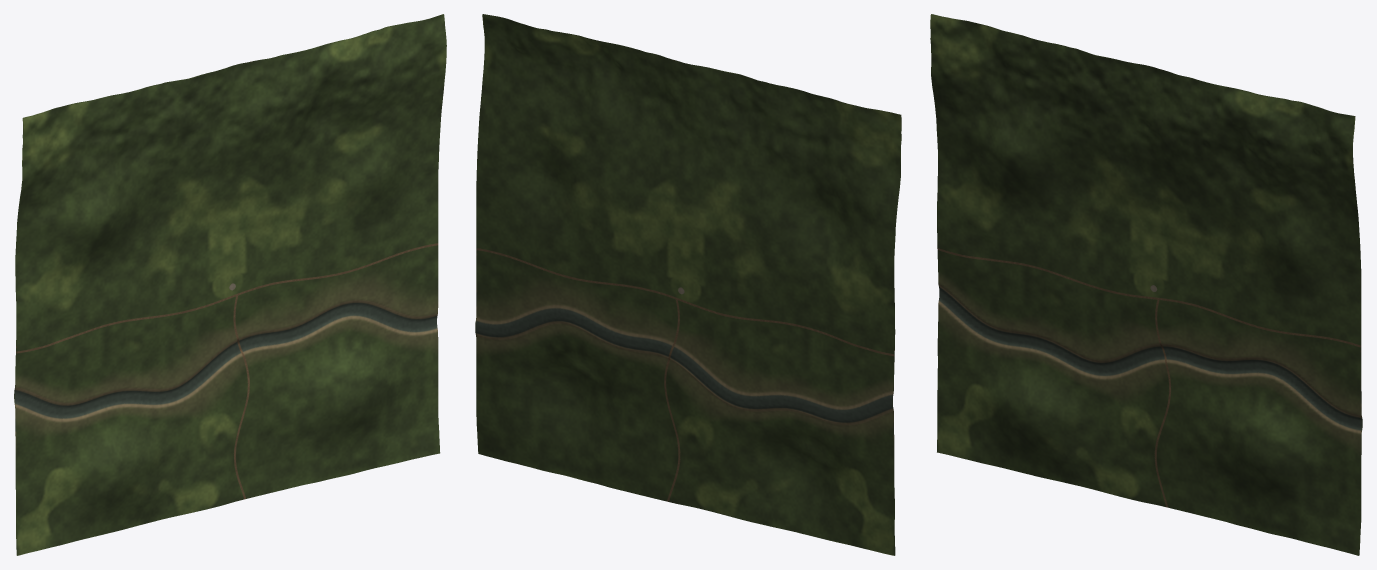
The model's file is terrain.obj.
3 views of the same model, side by side, from view 1: azimuth 30°, elevation 25°; view 2: azimuth 150°, elevation 25°; view 3: azimuth 330°, elevation 25° (orthographic).
Size of the model in its own units: 1200 by 1200 by 59.12.
1 material, 1 textured.
